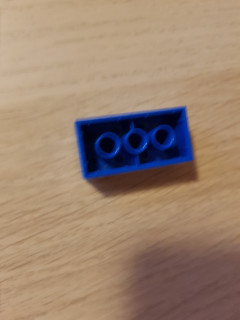2x4 blue: (75, 105, 197, 180)
